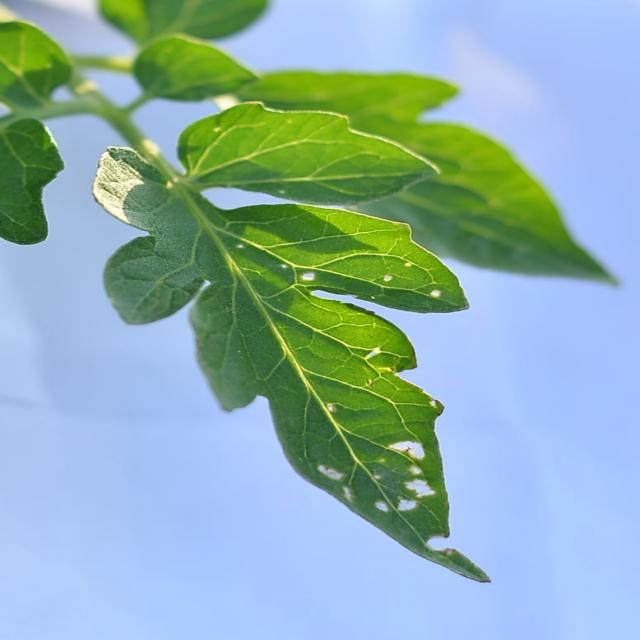infected: (218, 233, 536, 569)
